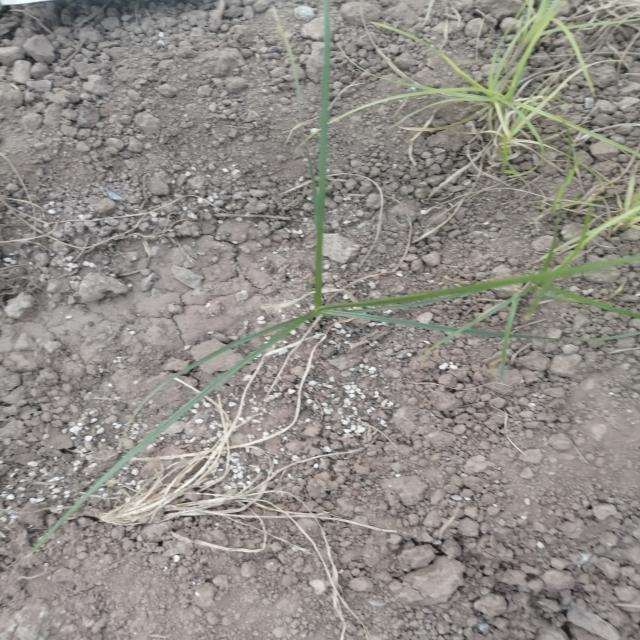sedge: (42, 24, 627, 534)
